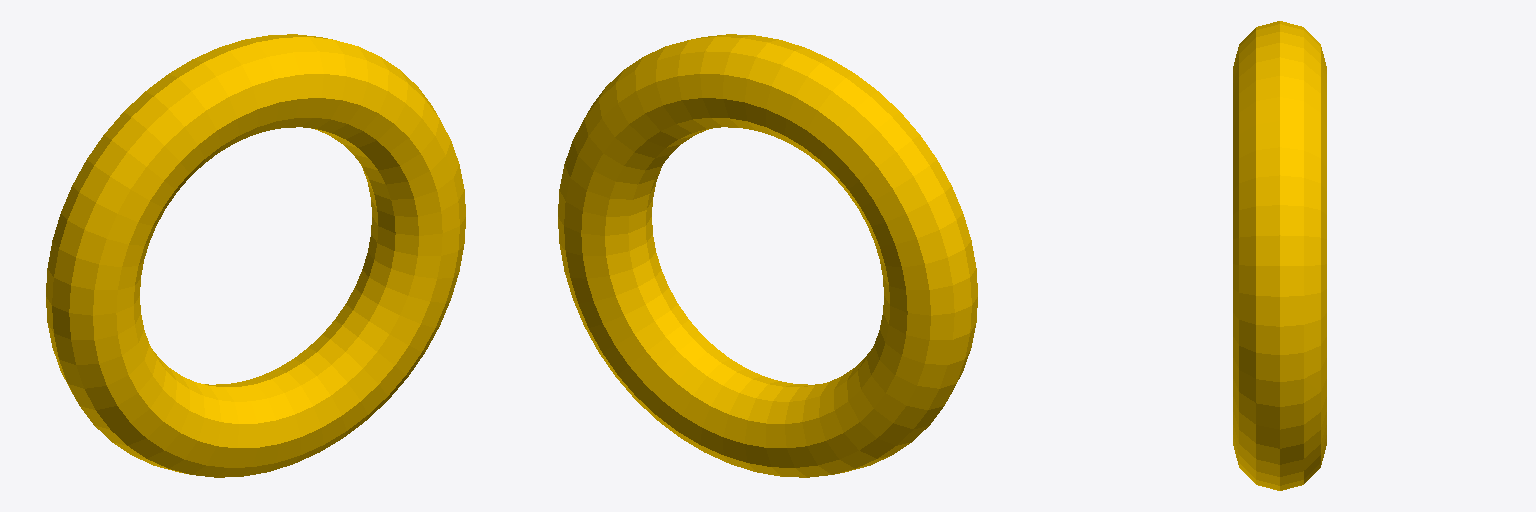
File: Ring.obj
3 renders of one model, left to right at view 1: azimuth 30°, elevation 25°; view 2: azimuth 150°, elevation 25°; view 3: azimuth 270°, elevation 25°, orthographic.
Parts seen in each view (by area): view 1: Torus; view 2: Torus; view 3: Torus.
Boxes of the visible parts, <box> form: Torus: <box>46,34,465,477</box>; Torus: <box>558,34,977,477</box>; Torus: <box>1233,21,1326,490</box>.
Size of the model in its own units: 0.625 by 0.625 by 0.125.